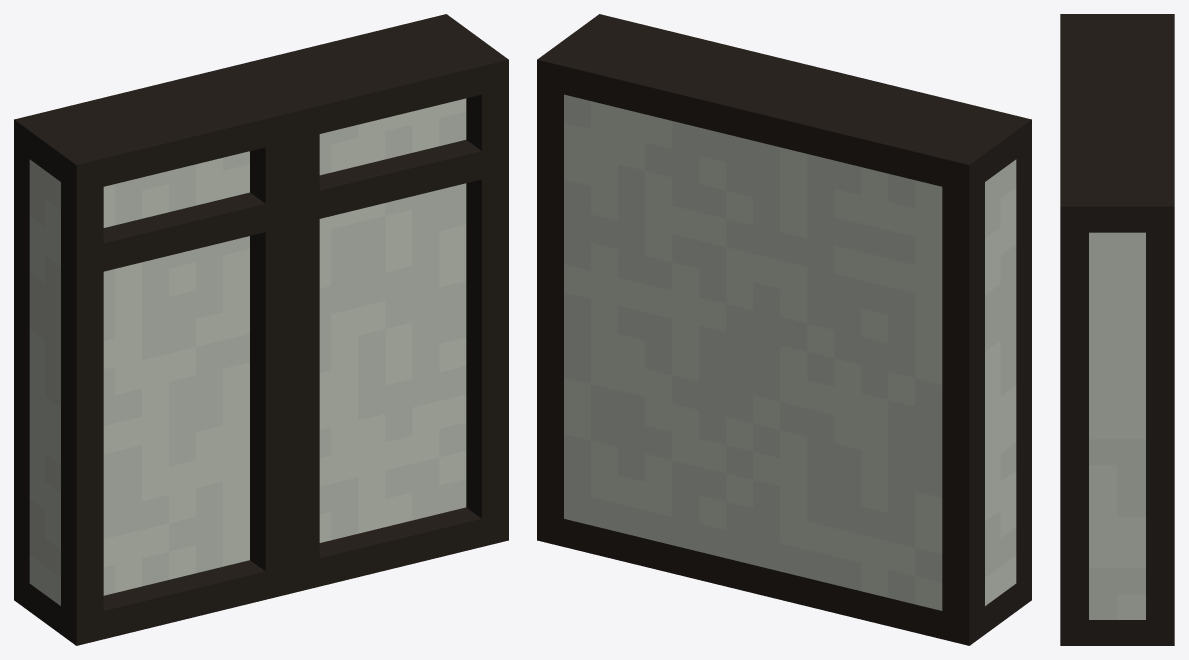
Rendered from tavern-72-wall_tudor5.obj.
3 renders of one model, left to right at view 1: azimuth 30°, elevation 25°; view 2: azimuth 150°, elevation 25°; view 3: azimuth 270°, elevation 25°, orthographic. The views are drawn at different scales.
Parts seen in each view (by area): view 1: wall_tudor5; view 2: wall_tudor5; view 3: wall_tudor5.
Part boxes in pixels (box(x1,y1,x2,y2)): wall_tudor5: box(14, 14, 508, 645); wall_tudor5: box(537, 14, 1031, 645); wall_tudor5: box(1060, 14, 1174, 645).
Bounding box in the file's own units: 1.6 × 1.7 × 0.4.
1 material, 1 textured.
